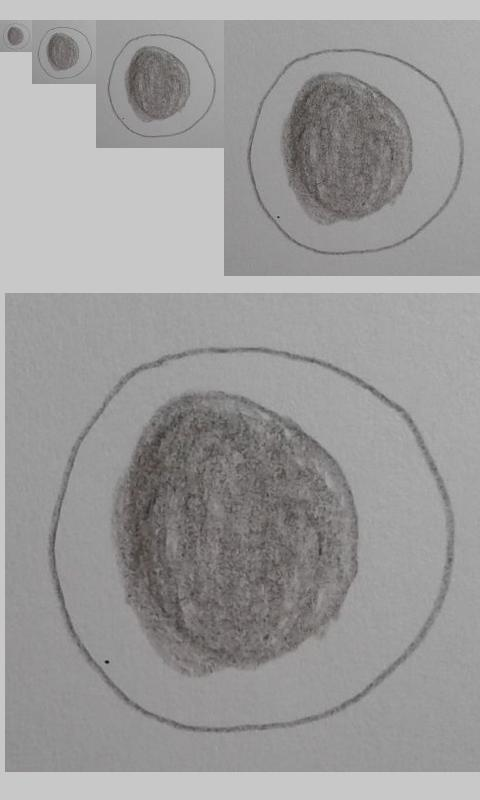radio_button: (45, 344, 458, 736), (245, 45, 465, 256), (106, 32, 218, 139), (36, 25, 93, 80), (2, 22, 31, 50)
